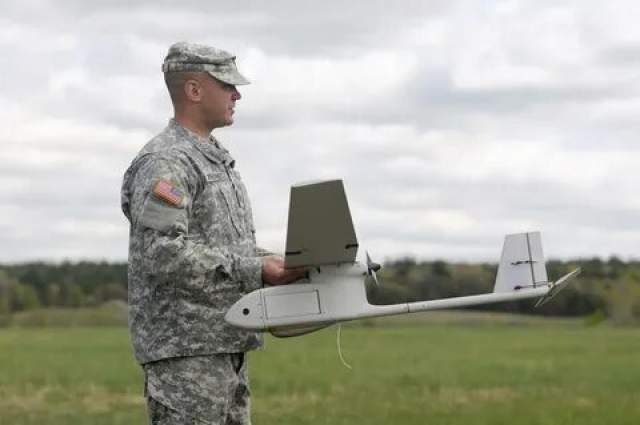military drone: (224, 178, 582, 339)
